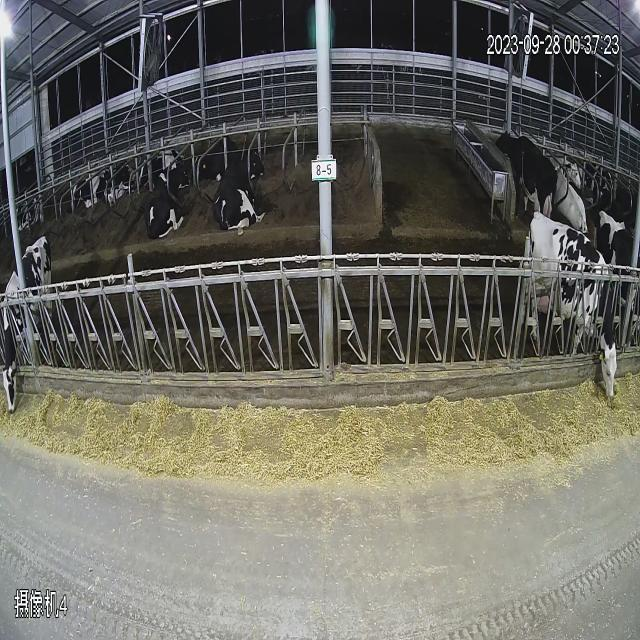feeding: (528, 224, 620, 416), (0, 231, 73, 428)
lying down: (196, 110, 276, 262), (142, 128, 186, 252), (586, 119, 630, 228), (7, 159, 51, 245), (556, 112, 586, 235), (64, 138, 107, 223), (104, 138, 138, 226)
standing: (493, 91, 556, 243)
